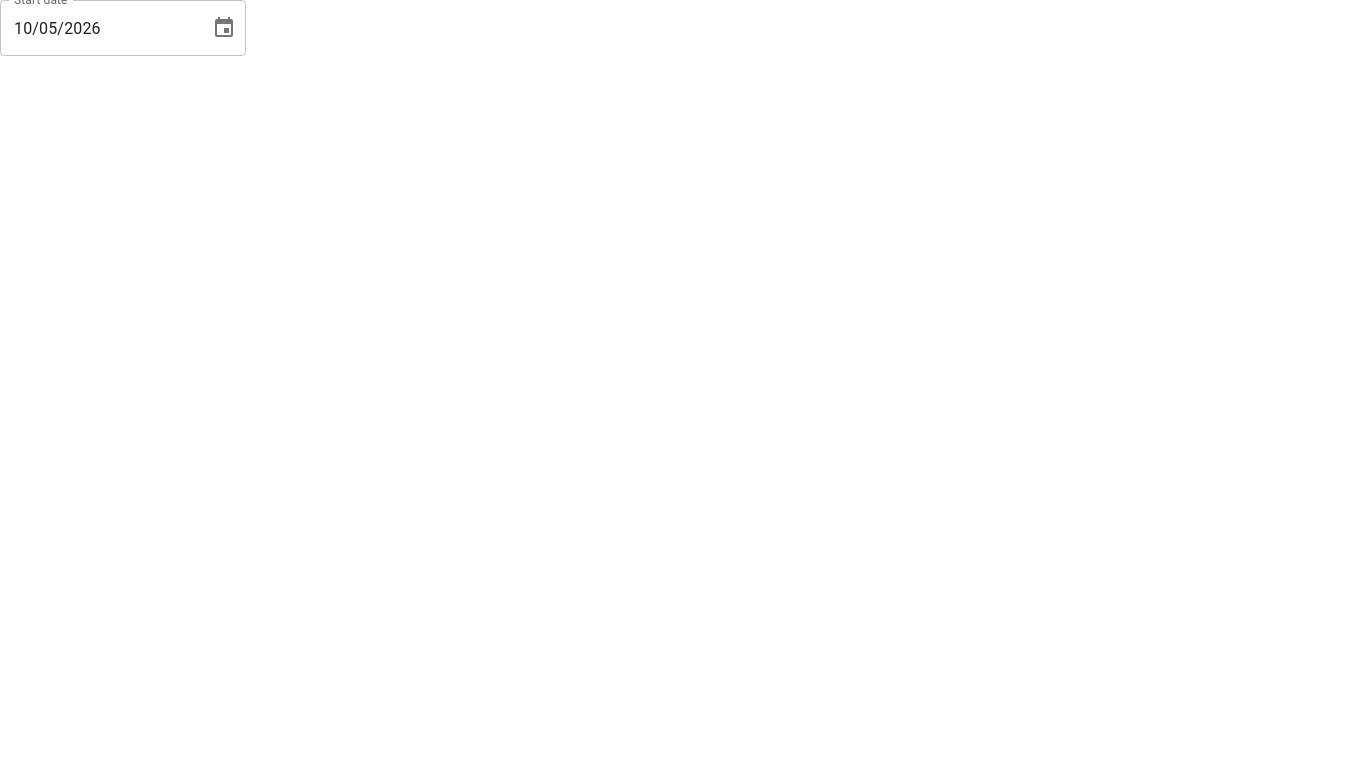
Test: <DatePickerField> accessibility › has no axe violations with the calendar open
Click the button named "choose date": click(224, 28) [204, 8, 244, 48]
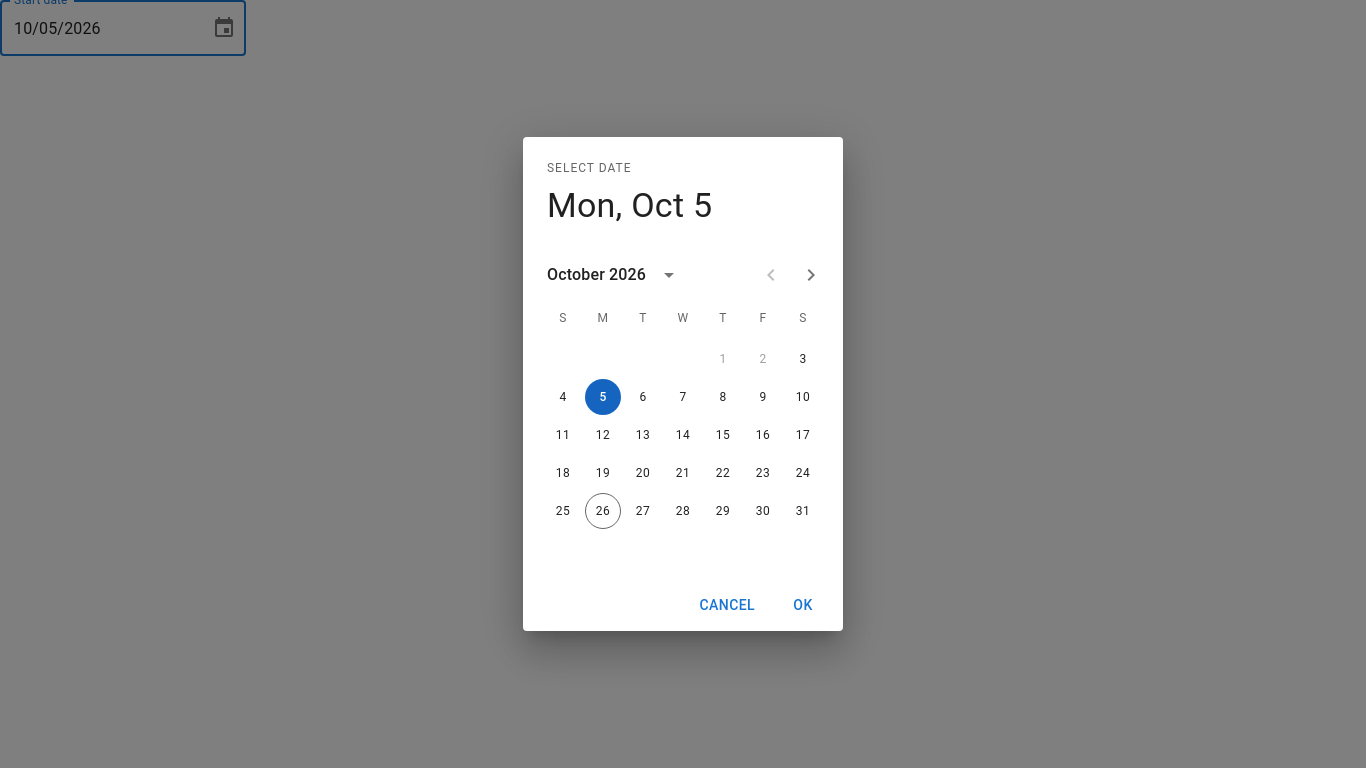
Expected: the dialog is shown, [523, 137, 843, 631]
